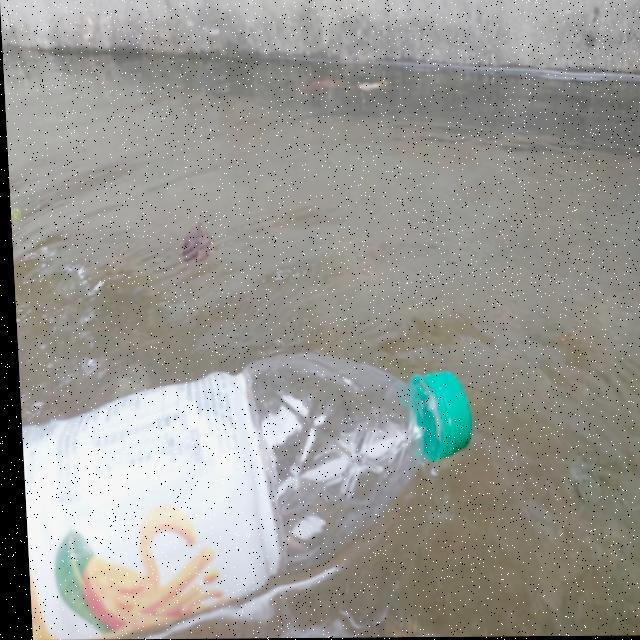leaf: (297, 64, 410, 111), (167, 216, 221, 275)
waterbottle: (14, 343, 542, 640)
